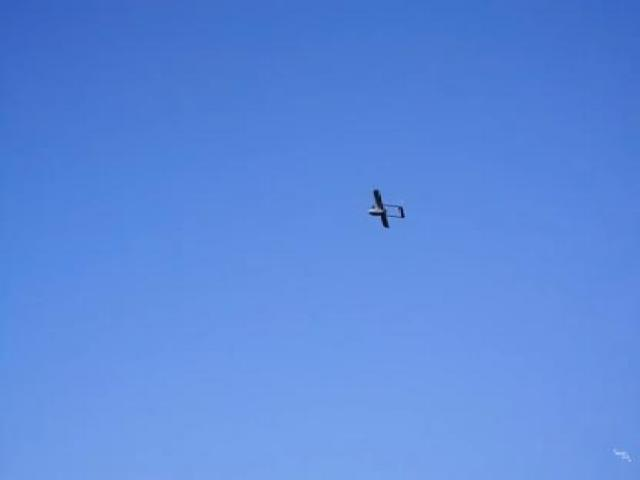uav: (364, 188, 408, 232)
